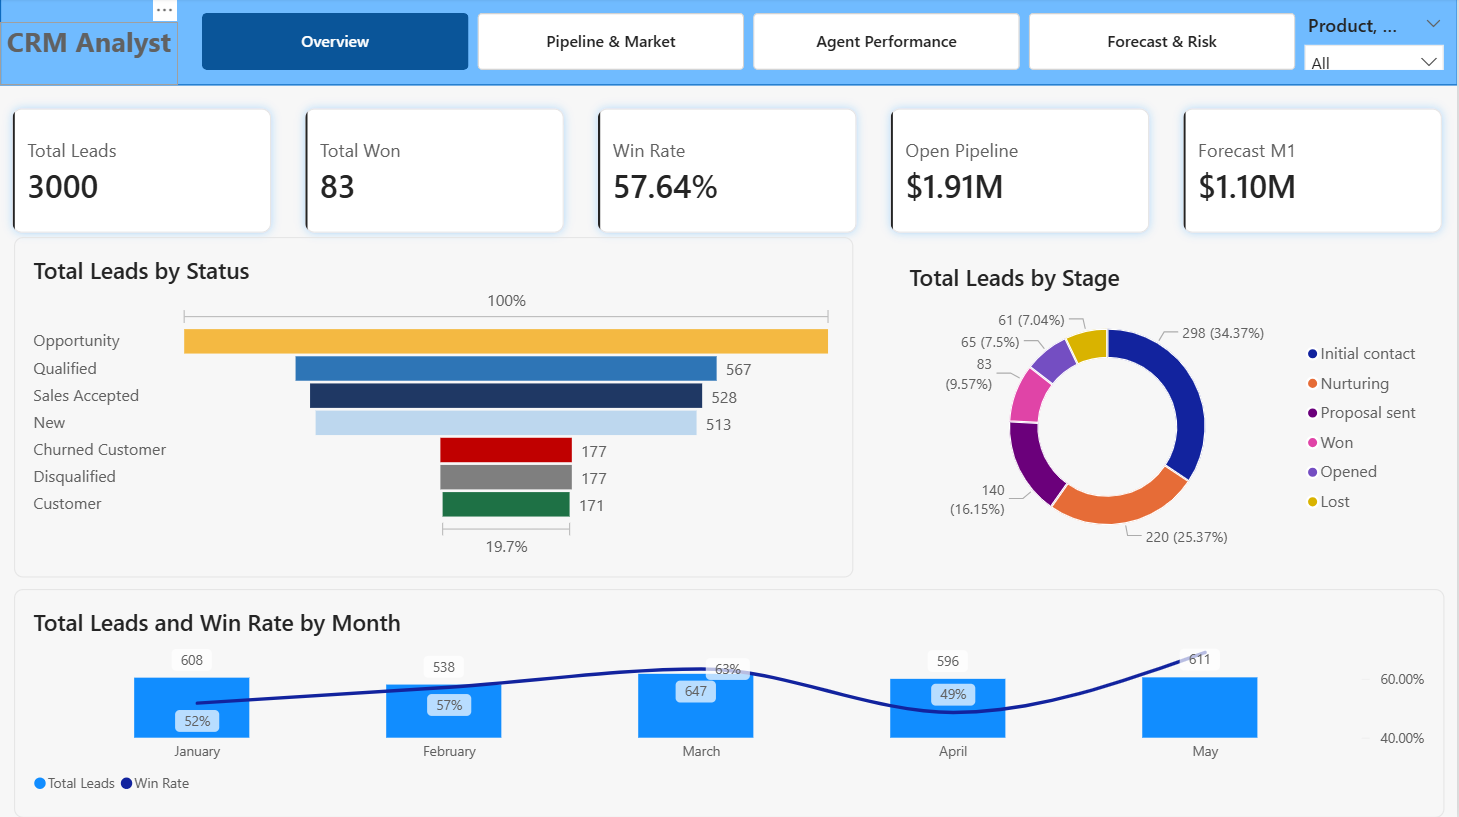

What the dashboard file says about the page in this screenshot:
{"tool":"powerbi","page":{"name":" Overview","canvas":[1280,720],"ordinal":0},"visuals":[{"type":"shape","box":[0,0,1280,76.7],"z":0},{"type":"textbox","box":[0,21.2,156.2,55.4],"z":1000},{"type":"pageNavigator","box":[177.4,13.1,963.5,50.4],"z":2000},{"type":"cardVisual","fields":{"Data":["crm_data.Total Leads","crm_data.Total Won","crm_data.Win Rate","crm_data.Open Pipeline","crm_data.Forecast M1"]},"box":[0,85.7,1280,131],"z":3000},{"type":"funnel","fields":{"Category":["crm_data.Status"],"Y":["crm_data.Total Leads"]},"box":[12.1,209.6,736.8,299.3],"z":4000},{"type":"lineClusteredColumnComboChart","fields":{"Category":["crm_data.lead_month.Variation.Date Hierarchy.Month"],"Y":["crm_data.Total Leads"],"Y2":["crm_data.Win Rate"]},"box":[12.1,519.1,1255.8,200.6],"z":5000},{"type":"donutChart","fields":{"Category":["crm_data.Stage"],"Y":["crm_data.Total Leads"]},"box":[782.1,216.7,485.8,292.3],"z":6000},{"type":"slicer","fields":{"Values":["crm_data.Product","crm_data.Country"]},"box":[1140.9,13.1,132,50.4],"z":7000}]}

Visuals, with their boxes in screenshot pixels (x1, y1, x2, y2), scaled from the page's 1280x720 canvas onto the 1459x817 screenshot:
shape: bbox=[0, 0, 1458, 87]
textbox: bbox=[0, 24, 178, 87]
pageNavigator: bbox=[202, 15, 1300, 72]
cardVisual - crm_data.Total Leads x crm_data.Total Won: bbox=[0, 97, 1458, 246]
funnel - crm_data.Status x crm_data.Total Leads: bbox=[14, 238, 854, 577]
lineClusteredColumnComboChart - crm_data.lead_month.Variation.Date Hierarchy.Month x crm_data.Total Leads: bbox=[14, 589, 1445, 816]
donutChart - crm_data.Stage x crm_data.Total Leads: bbox=[891, 246, 1445, 578]
slicer - crm_data.Product x crm_data.Country: bbox=[1300, 15, 1451, 72]
